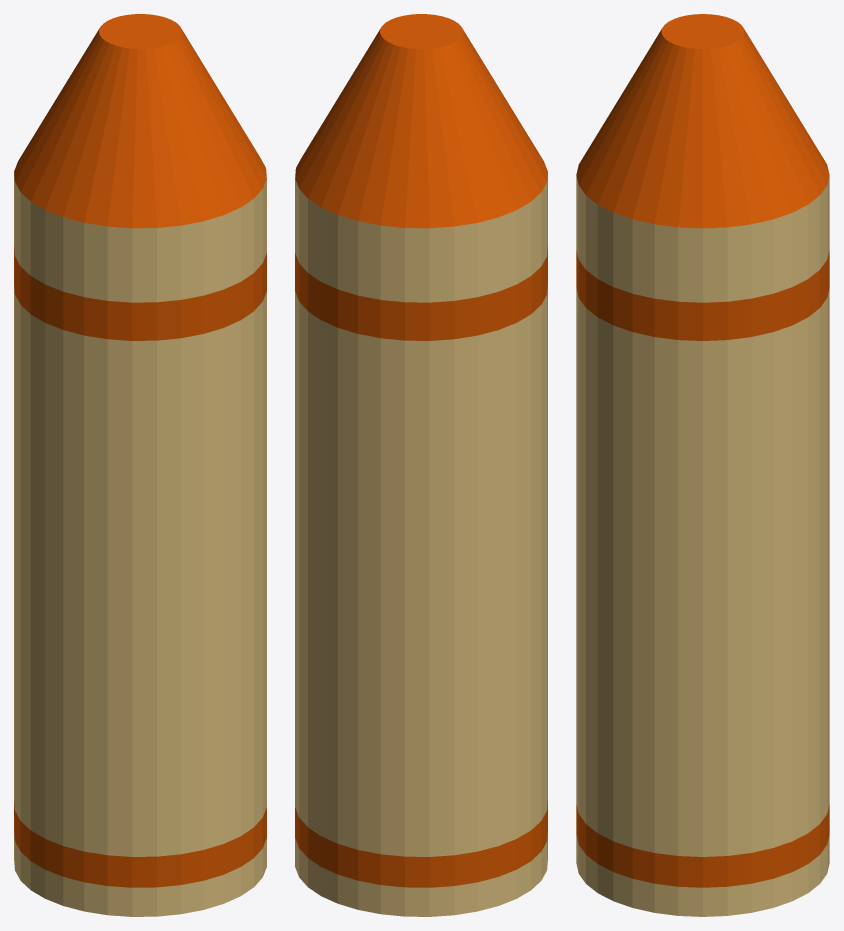
The model's file is crayon brown.fbx.
3 renders of one model, left to right at view 1: azimuth 30°, elevation 25°; view 2: azimuth 150°, elevation 25°; view 3: azimuth 270°, elevation 25°, orthographic.
Parts seen in each view (by area): view 1: Cylinder; view 2: Cylinder; view 3: Cylinder.
Boxes of the visible parts, x1,y1,x2,y2 form: Cylinder: (14,14,266,916); Cylinder: (295,14,547,916); Cylinder: (576,14,829,916).
Size of the model in its own units: 20 by 72.49 by 20.
